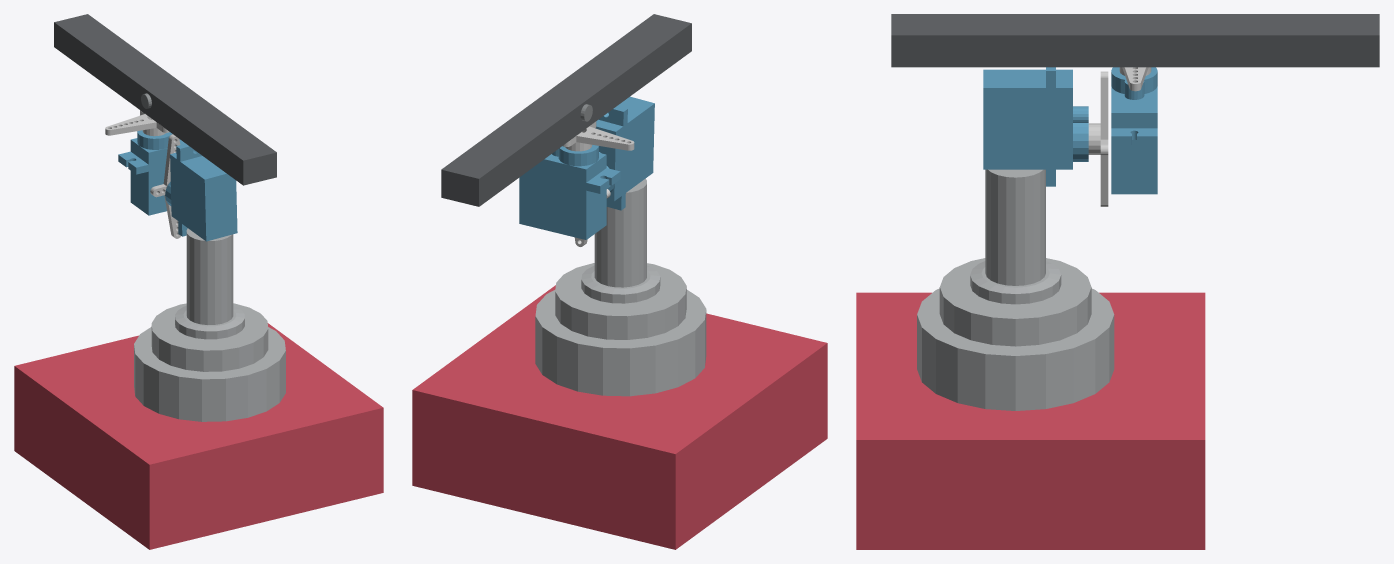
3 renders of one model, left to right at view 1: azimuth 30°, elevation 25°; view 2: azimuth 150°, elevation 25°; view 3: azimuth 270°, elevation 25°, orthographic. The views are drawn at different scales.
Visible parts, largest first — view 1: Mesh_Mesh_head_geo.001_lambert2SG.001; view 2: Mesh_Mesh_head_geo.001_lambert2SG.001; view 3: Mesh_Mesh_head_geo.001_lambert2SG.001.
Boxes of the visible parts, x1,y1,x2,y2 form: Mesh_Mesh_head_geo.001_lambert2SG.001: [14, 14, 383, 549]; Mesh_Mesh_head_geo.001_lambert2SG.001: [412, 14, 827, 549]; Mesh_Mesh_head_geo.001_lambert2SG.001: [856, 14, 1379, 549].
Bounding box in the file's own units: 88.41 × 128 × 133.
